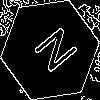N: (25, 25, 80, 81)
